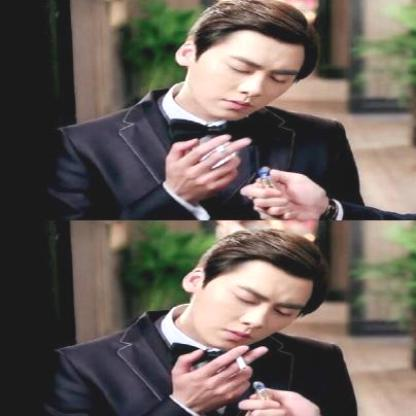cigarette: (234, 355, 250, 370)
person: (62, 0, 364, 215), (63, 228, 358, 416)
